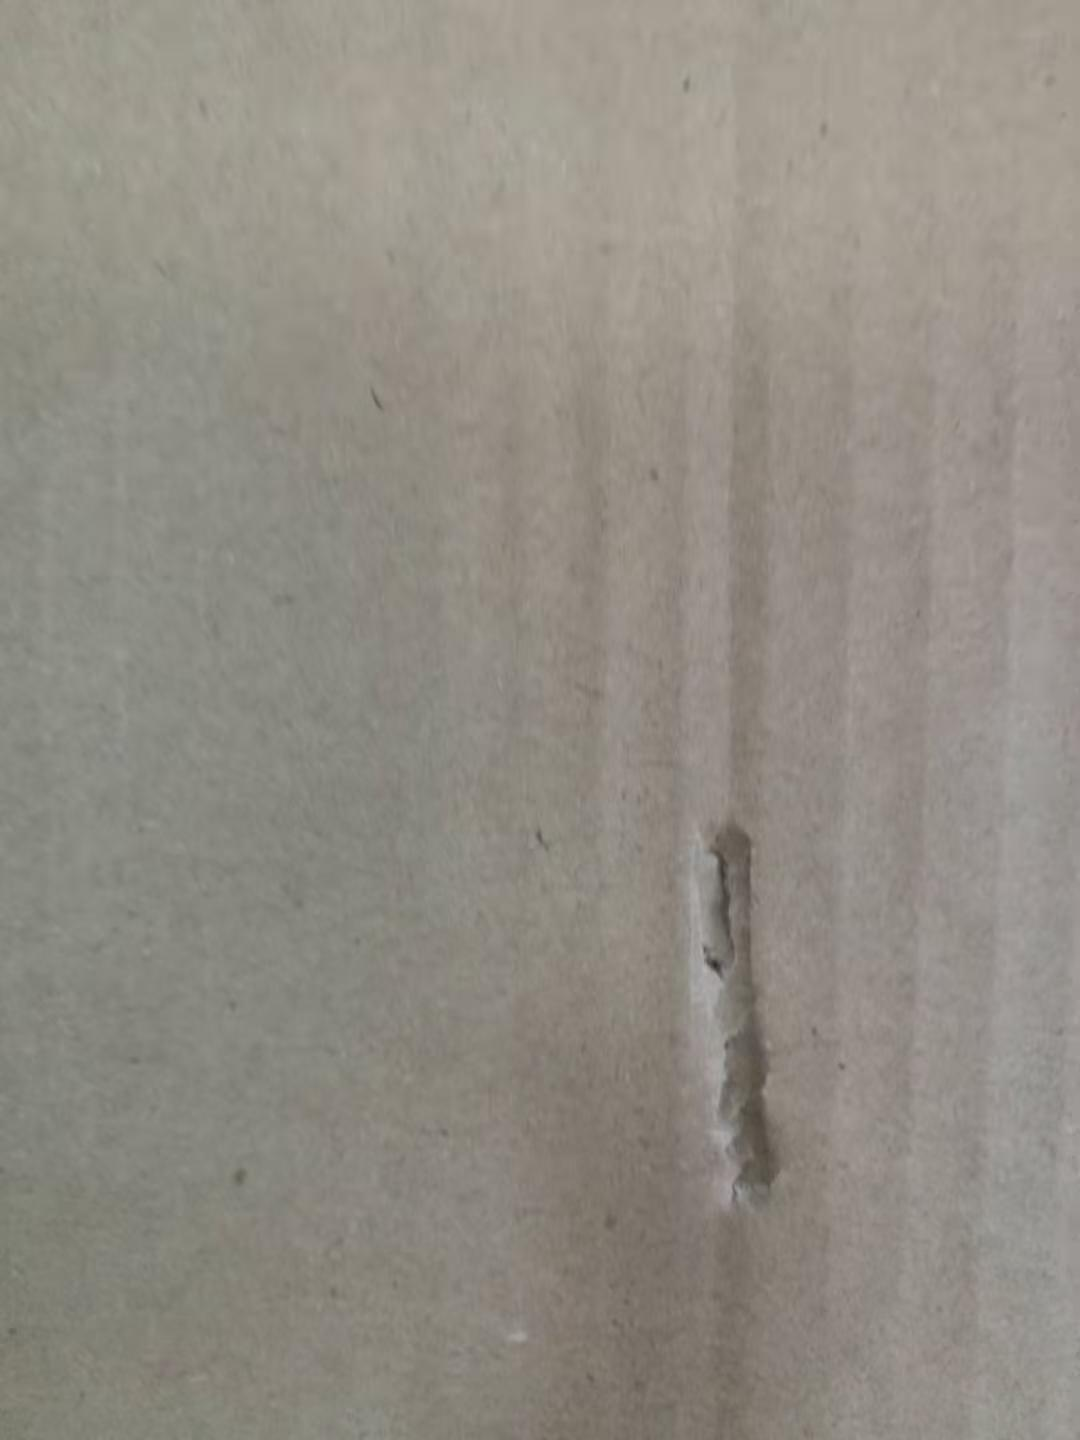defect: (614, 776, 845, 1255)
